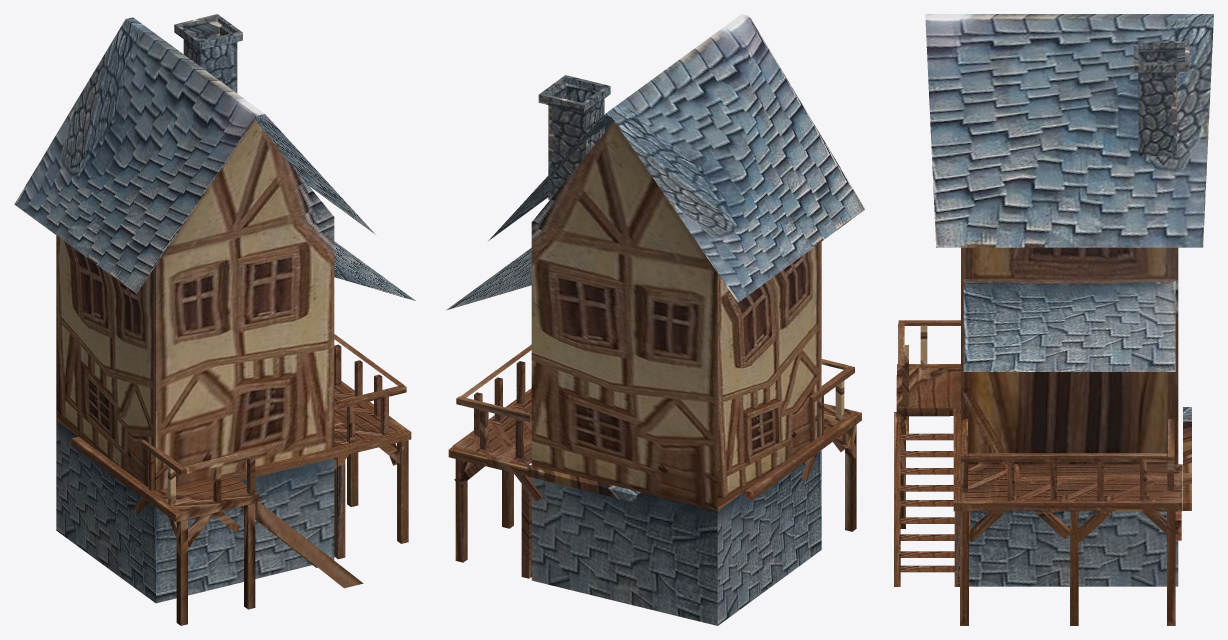
3 views of the same model, side by side, from view 1: azimuth 30°, elevation 25°; view 2: azimuth 150°, elevation 25°; view 3: azimuth 270°, elevation 25° (orthographic). The views are drawn at different scales.
Visible parts, largest first — view 1: h14; view 2: h14; view 3: h14.
Part boxes in pixels (<box>): h14: <box>14,14,415,625</box>; h14: <box>446,14,865,625</box>; h14: <box>894,14,1213,625</box>.
Size of the model in its own units: 1.94 by 3.04 by 1.68.
1 material, 1 textured.
